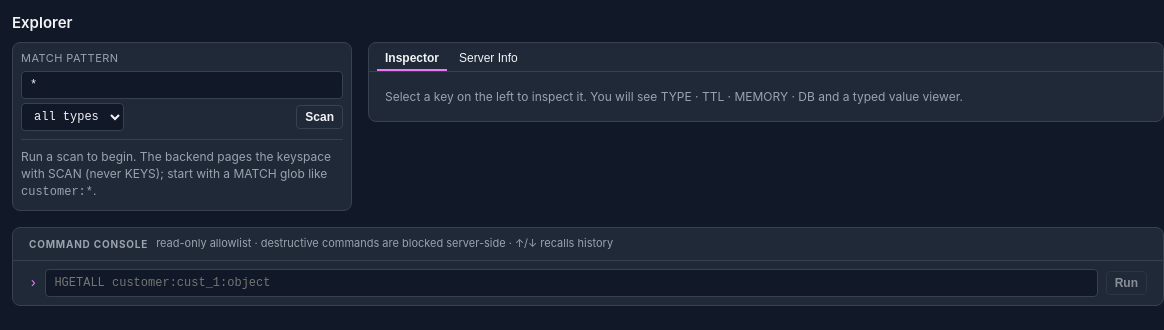
key scan (SCAN paging, no seed) › a second scan REPLACES the first — no cross-scan key contamination
// First scan: customer:*
Replace the text in the field with test id "explorer-pattern" with "customer:*": (182,85) x1=21 y1=71 x2=343 y2=99
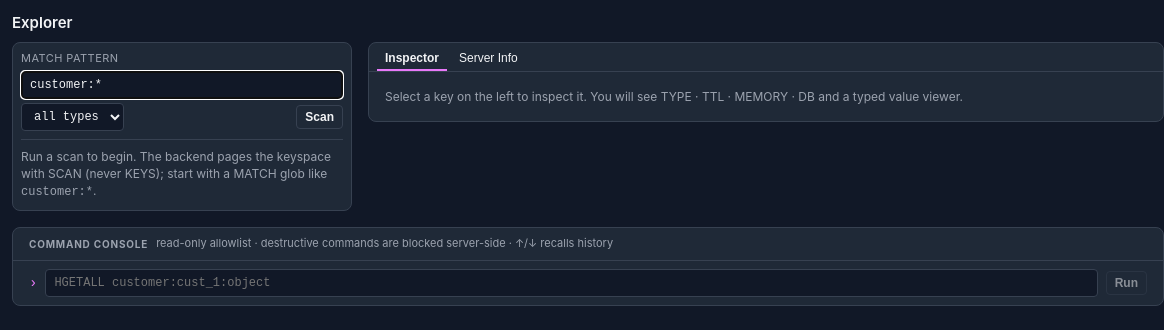
Click the button with test id "explorer-scan": (320,117) x1=296 y1=105 x2=343 y2=129
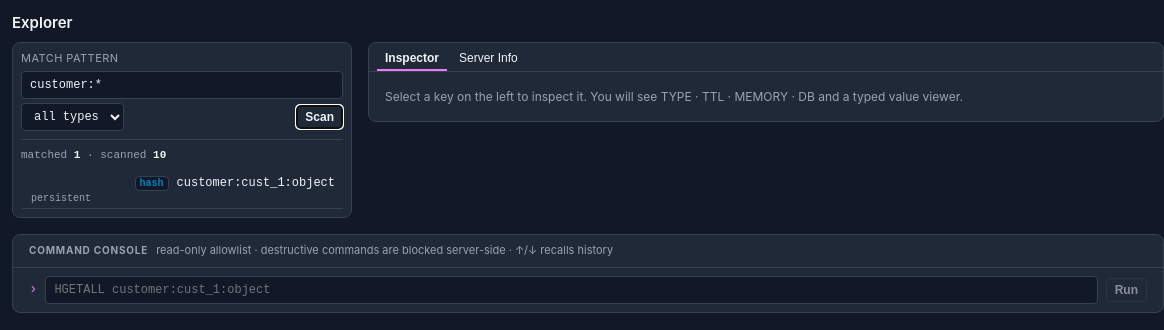
Now the button with test id "explorer-key-customer:cust_1:object" is shown, box x1=21 y1=172 x2=343 y2=209
In the field with test id "explorer-pattern": (182,85) x1=21 y1=71 x2=343 y2=99, type "session:*"
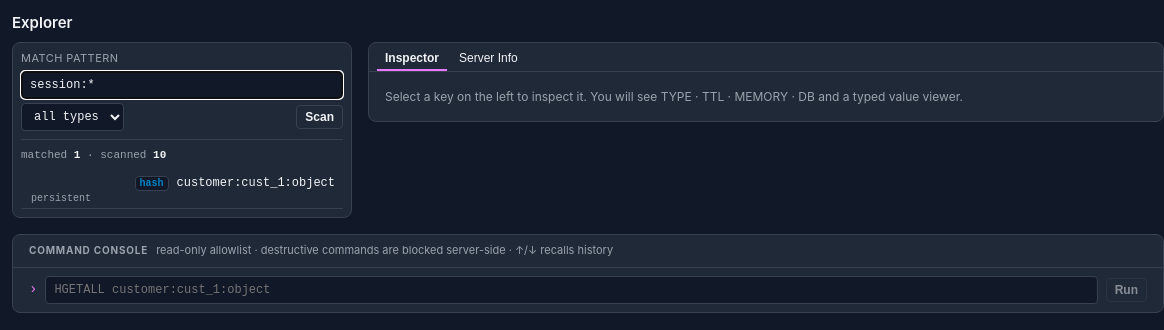
Click the button with test id "explorer-scan": (320,117) x1=296 y1=105 x2=343 y2=129
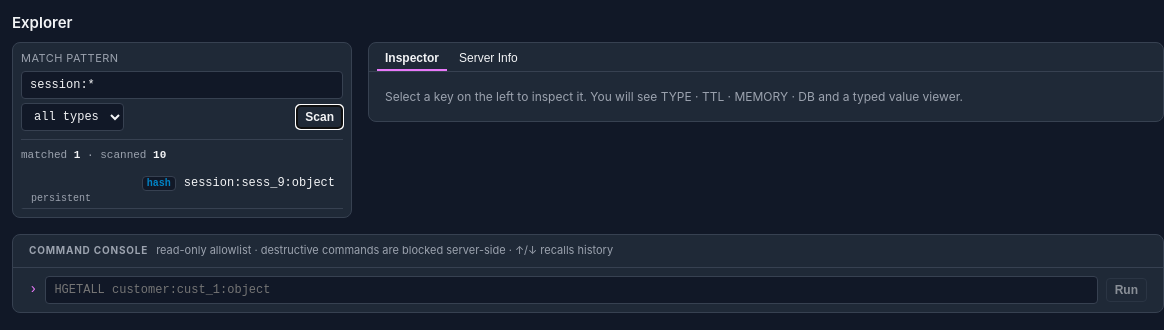
Now the element with test id "explorer-scan-count" shows "matched 1", box x1=21 y1=149 x2=166 y2=161
Now the button with test id "explorer-key-session:sess_9:object" is shown, box x1=21 y1=172 x2=343 y2=209
